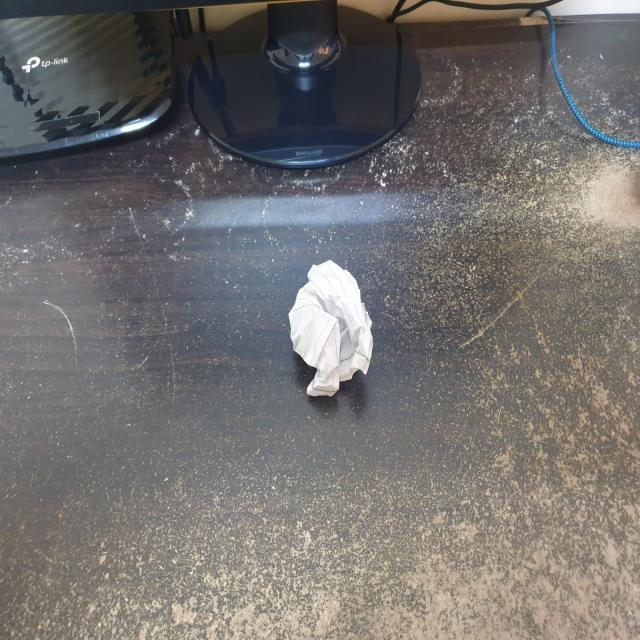Paper: (290, 257, 373, 398)
